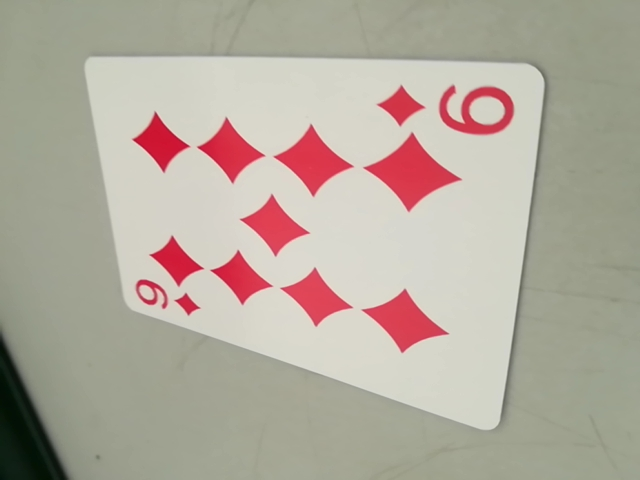fk 9: (378, 75, 518, 143), (128, 275, 208, 323)
